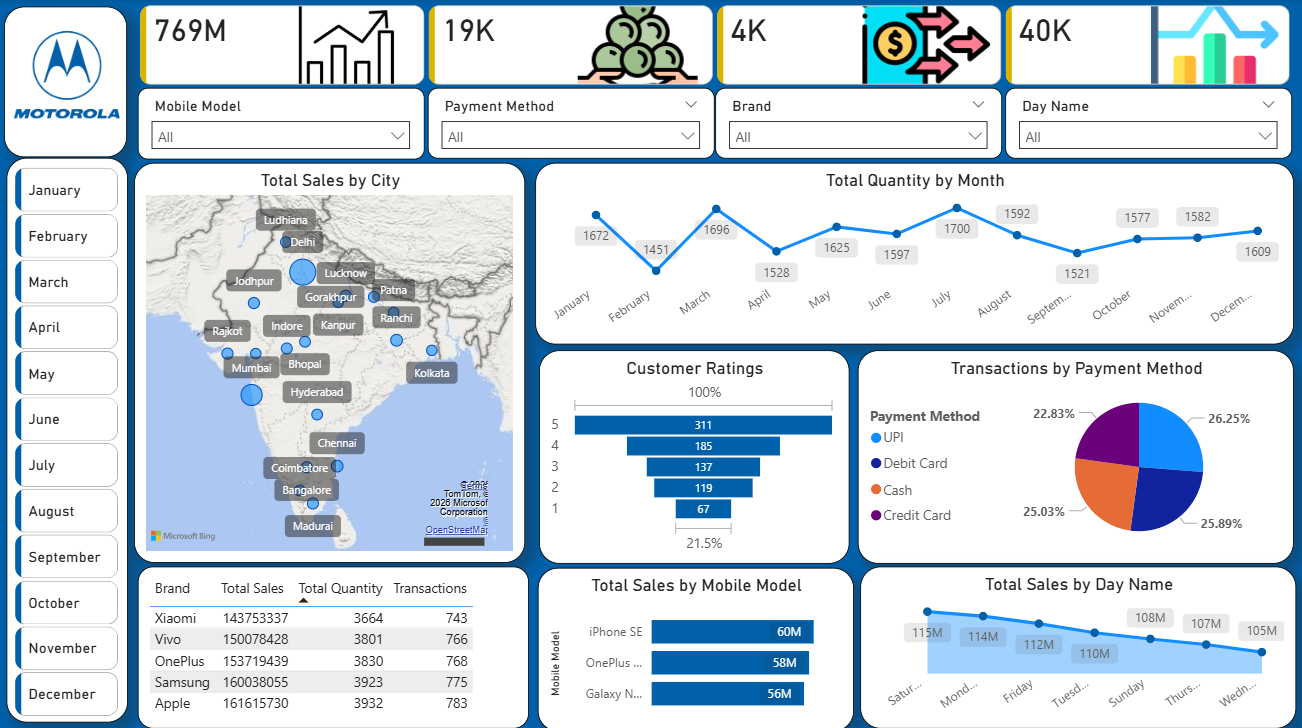

Layout of this report page (visuals, bound fields, positions):
{"tool":"powerbi","page":{"name":"Page 1","canvas":[1280,720],"ordinal":0},"visuals":[{"type":"shape","box":[5.5,6.9,120.8,148.2],"z":0},{"type":"image","box":[9.6,16.5,113.9,116.6],"z":1000},{"type":"shape","box":[6.9,156.4,119.4,554.4],"z":2000},{"type":"advancedSlicerVisual","fields":{"Values":["Sales_Data.Date.Variation.Date Hierarchy.Month"]},"box":[11,160.5,111.1,548.9],"z":3000},{"type":"cardVisual","fields":{"Data":["Sales_Data.Total Sales","Sales_Data.Total Quantity","Sales_Data.Transactions","Sales_Data.Average"]},"box":[134,5.6,1140.1,83.7],"z":4000},{"type":"map","fields":{"Category":["Sales_Data.City"],"Size":["Sales_Data.Total Sales"]},"box":[132.9,160.8,384.1,393.1],"z":5000},{"type":"lineChart","fields":{"Y":["Sales_Data.Total Quantity"],"Category":["Sales_Data.Date.Variation.Date Hierarchy.Month","Sales_Data.Date.Variation.Date Hierarchy.Day"]},"box":[525.9,160.8,744.8,178.7],"z":6000},{"type":"clusteredBarChart","fields":{"Category":["Sales_Data.Mobile Model"],"Y":["Sales_Data.Total Sales"]},"box":[528.3,558.5,310.1,160.5],"z":7000},{"type":"pieChart","fields":{"Category":["Sales_Data.Payment Method"],"Y":["Sales_Data.Transactions"]},"box":[842.5,344.4,428.1,209.9],"z":8000},{"type":"funnel","title":"Customer Ratings","fields":{"Category":["Sales_Data.Customer Ratings"],"Y":["CountNonNull(Sales_Data.Customer Ratings)"]},"box":[529.7,344.4,304.6,209.9],"z":9000},{"type":"areaChart","fields":{"Category":["Sales_Data.Day Name"],"Y":["Sales_Data.Total Sales"]},"box":[845.3,557.1,428.1,159.2],"z":10000},{"type":"tableEx","fields":{"Values":["Sales_Data.Brand","Sales_Data.Total Sales","Sales_Data.Total Quantity","Sales_Data.Transactions"]},"box":[135.8,557.1,384.2,159.2],"z":11000},{"type":"slicer","fields":{"Values":["Sales_Data.Mobile Model"]},"box":[136.2,87.1,281.4,70.3],"z":12000},{"type":"slicer","fields":{"Values":["Sales_Data.Payment Method"]},"box":[421,87.1,281.4,69.2],"z":13000},{"type":"slicer","fields":{"Values":["Sales_Data.Brand"]},"box":[703.5,87.1,281.4,69.2],"z":14000},{"type":"slicer","fields":{"Values":["Sales_Data.Day Name"]},"box":[988.2,87.1,281.4,69.2],"z":15000}]}

Visuals, with their boxes in screenshot pixels (x1, y1, x2, y2), scaled from the page's 1280x720 canvas onto the 1302x728 screenshot:
shape: bbox(6, 7, 128, 157)
image: bbox(10, 17, 126, 135)
shape: bbox(7, 158, 128, 719)
advancedSlicerVisual - Sales_Data.Date.Variation.Date Hierarchy.Month: bbox(11, 162, 124, 717)
cardVisual - Sales_Data.Total Sales x Sales_Data.Total Quantity: bbox(136, 6, 1296, 90)
map - Sales_Data.City x Sales_Data.Total Sales: bbox(135, 163, 526, 560)
lineChart - Sales_Data.Total Quantity x Sales_Data.Date.Variation.Date Hierarchy.Month: bbox(535, 163, 1293, 343)
clusteredBarChart - Sales_Data.Mobile Model x Sales_Data.Total Sales: bbox(537, 565, 853, 727)
pieChart - Sales_Data.Payment Method x Sales_Data.Transactions: bbox(857, 348, 1292, 560)
"Customer Ratings" funnel: bbox(539, 348, 849, 560)
areaChart - Sales_Data.Day Name x Sales_Data.Total Sales: bbox(860, 563, 1295, 724)
tableEx - Sales_Data.Brand x Sales_Data.Total Sales: bbox(138, 563, 529, 724)
slicer - Sales_Data.Mobile Model: bbox(139, 88, 425, 159)
slicer - Sales_Data.Payment Method: bbox(428, 88, 714, 158)
slicer - Sales_Data.Brand: bbox(716, 88, 1002, 158)
slicer - Sales_Data.Day Name: bbox(1005, 88, 1291, 158)
